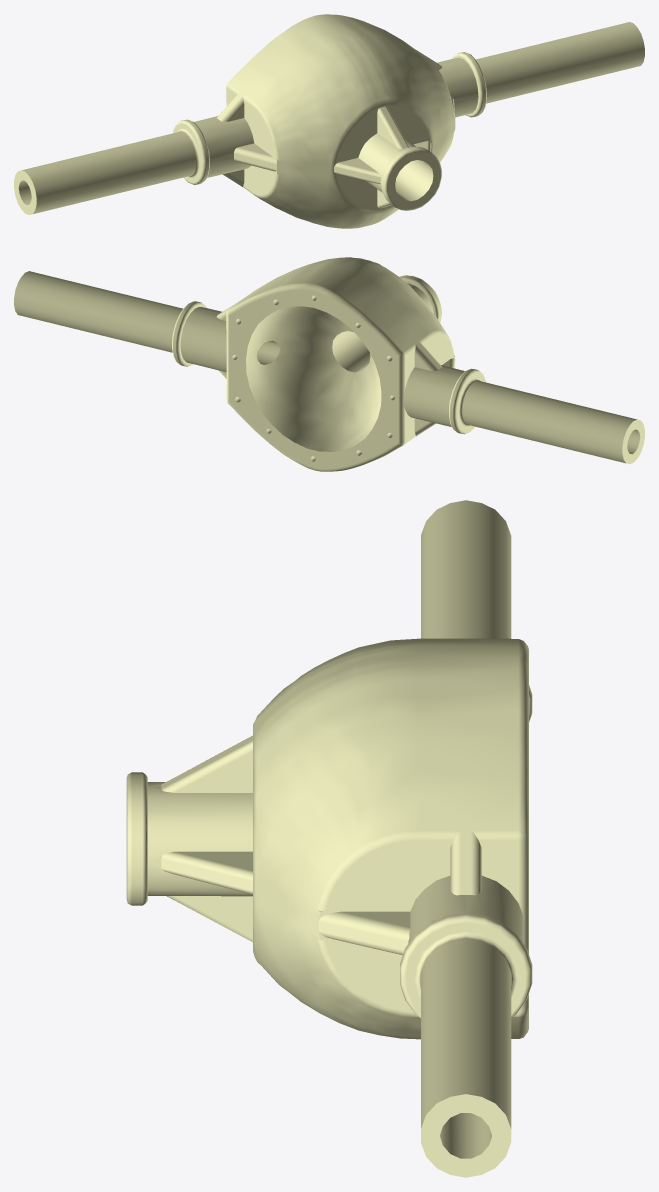
Rendered from Differential housing isolated.gltf.
The picture shows the model from 3 angles, top to bottom: view 1: azimuth 30°, elevation 25°; view 2: azimuth 150°, elevation 25°; view 3: azimuth 270°, elevation 25°; orthographic projection. The views are drawn at different scales.
Visible parts, largest first — view 1: Housing; view 2: Housing; view 3: Housing.
Boxes of the visible parts, x1,y1,x2,y2 form: Housing: (14, 14, 644, 228); Housing: (14, 257, 644, 471); Housing: (126, 500, 532, 1177).
Bounding box in the file's own units: 134 × 39 × 38.6.
